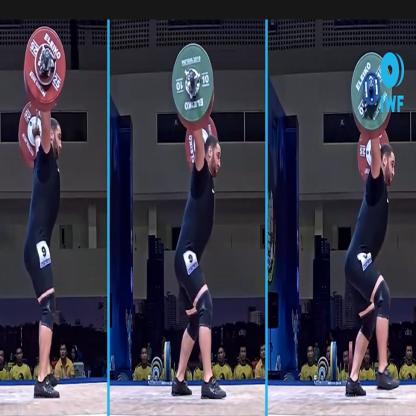Barbell: (350, 42, 399, 142), (169, 39, 217, 137), (22, 21, 67, 107)
